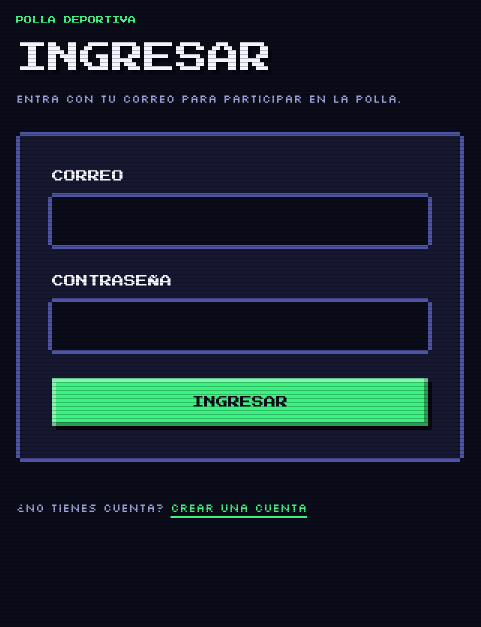
Test: sign in (/ingresar) › 429: says how long to wait
The image size is (481, 627).
In the field labelled "Correo": (240, 221) top-left (52, 197), bottom-right (428, 245), type "ana@liga.test"
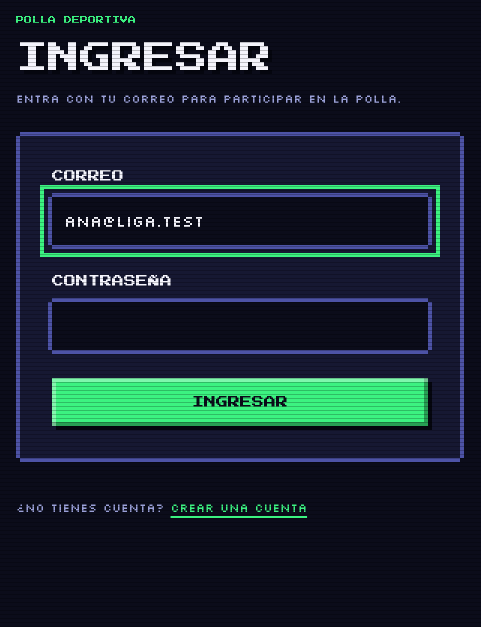
In the password field labelled "Contraseña": (240, 326) top-left (52, 302), bottom-right (428, 350), type "clave"
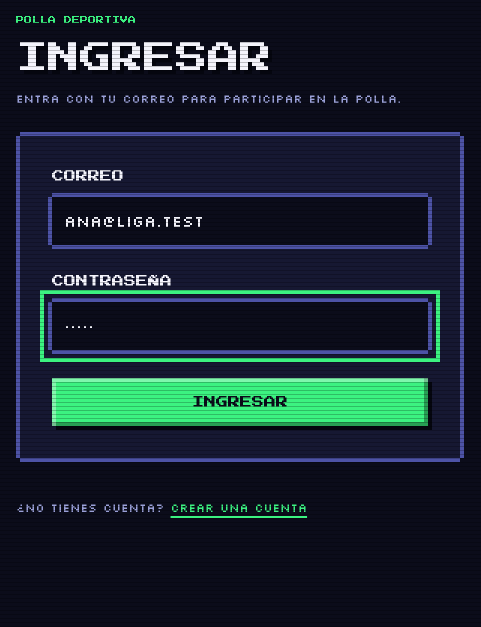
Click the button "Ingresar": (240, 402) top-left (52, 378), bottom-right (428, 426)
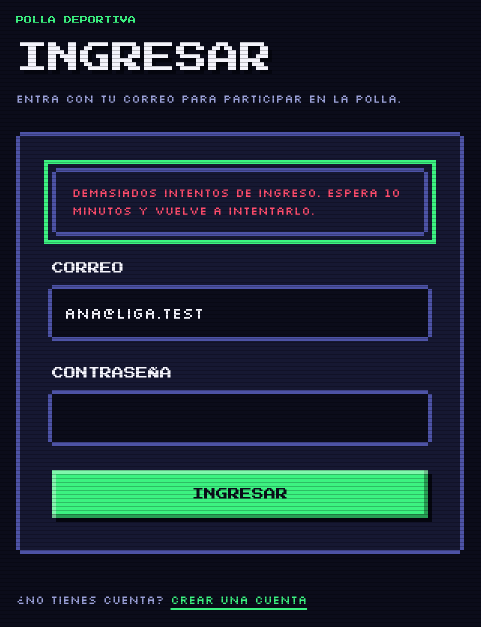
Expected: the message reads "Demasiados intentos de ingreso. Espera 10 minutos y vuelve a intentarlo.", top-left (72, 185), bottom-right (400, 218)
